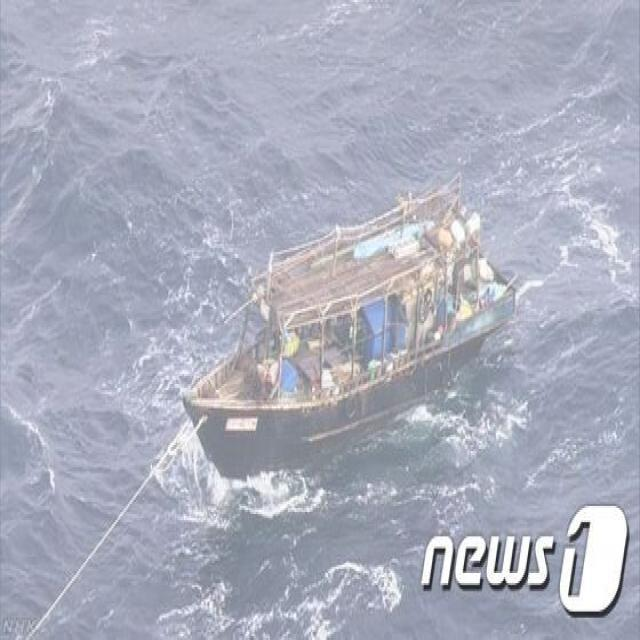Ship: (172, 158, 524, 493)
